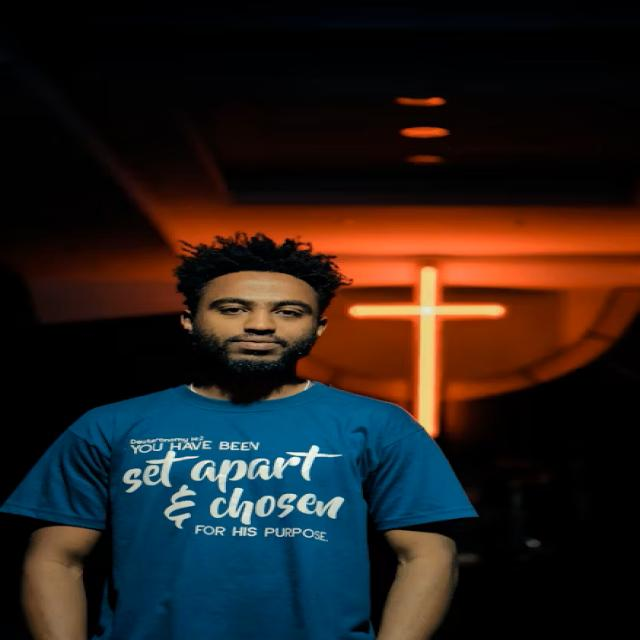Edited images: (32, 216, 468, 640)
